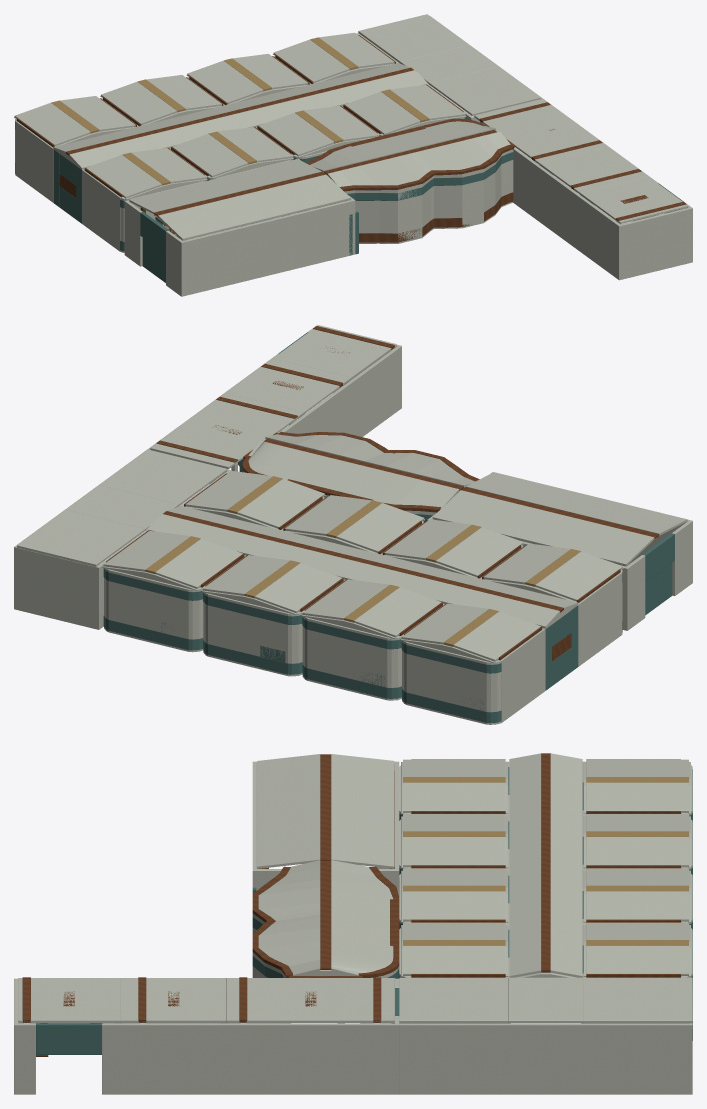
The model's file is D05_medical_connected_architecture_010.glb.
The picture shows the model from 3 angles, top to bottom: view 1: azimuth 30°, elevation 25°; view 2: azimuth 150°, elevation 25°; view 3: azimuth 270°, elevation 25°; orthographic projection. The views are drawn at different scales.
Parts seen in each view (by area): view 1: SUPPORT_south_wall, WAIT_south_sculpted_enclosure, ADMISSION_inner_protected_partition, ADMISSION_ceiling_panel_2, ADMISSION_south_end, TRIAGE_admission_ceiling_0, TRIAGE_admission_ceiling_2, ADMISSION_ceiling_panel_1, ADMISSION_ceiling_panel_0, SUPPORT_vault_facet_0, TRIAGE_04_left_wall, TRIAGE_08_right_wall (+44 smaller); view 2: ADMISSION_ceiling_panel_2, TRIAGE_admission_fore_cap, ADMISSION_inner_protected_partition, TRIAGE_03_shaped_care_back, TRIAGE_04_shaped_care_back, TRIAGE_01_shaped_care_back, TRIAGE_02_shaped_care_back, TRIAGE_admission_ceiling_2, TRIAGE_admission_ceiling_0, WAIT_fitted_vault_north_3, ADMISSION_ceiling_panel_1, ADMISSION_ceiling_panel_0 (+52 smaller); view 3: ADMISSION_outer_aft, TRIAGE_admission_outer, ADMISSION_ceiling_panel_2, TRIAGE_admission_ceiling_0, TRIAGE_admission_ceiling_2, ADMISSION_ceiling_panel_1, ADMISSION_ceiling_panel_0, WAIT_fitted_vault_north_3, TRIAGE_admission_ceiling_1, TRIAGE_05_vault_0, TRIAGE_06_vault_0, TRIAGE_08_vault_0 (+54 smaller).
Boxes of the visible parts, x1,y1,x2,y2 form: SUPPORT_south_wall: [180, 199, 352, 296]; WAIT_south_sculpted_enclosure: [344, 149, 513, 243]; ADMISSION_inner_protected_partition: [513, 147, 621, 280]; ADMISSION_ceiling_panel_2: [474, 99, 606, 164]; ADMISSION_south_end: [617, 207, 691, 279]; TRIAGE_admission_ceiling_0: [430, 66, 540, 115]; TRIAGE_admission_ceiling_2: [358, 14, 469, 63]; ADMISSION_ceiling_panel_1: [539, 146, 648, 194]; ADMISSION_ceiling_panel_0: [581, 177, 688, 223]; SUPPORT_vault_facet_0: [173, 189, 350, 240]; TRIAGE_04_left_wall: [15, 121, 53, 202]; TRIAGE_08_right_wall: [82, 169, 120, 251]; ADMISSION_ceiling_panel_2: [150, 393, 303, 469]; TRIAGE_admission_fore_cap: [14, 546, 100, 629]; ADMISSION_inner_protected_partition: [279, 345, 401, 436]; TRIAGE_03_shaped_care_back: [302, 616, 401, 700]; TRIAGE_04_shaped_care_back: [402, 641, 501, 724]; TRIAGE_01_shaped_care_back: [104, 568, 203, 652]; TRIAGE_02_shaped_care_back: [203, 592, 302, 676]; TRIAGE_admission_ceiling_2: [17, 509, 144, 566]; TRIAGE_admission_ceiling_0: [99, 449, 227, 506]; WAIT_fitted_vault_north_3: [263, 448, 401, 500]; ADMISSION_ceiling_panel_1: [226, 358, 351, 413]; ADMISSION_ceiling_panel_0: [273, 325, 396, 379]; ADMISSION_outer_aft: [102, 1023, 399, 1094]; TRIAGE_admission_outer: [399, 1023, 692, 1094]; ADMISSION_ceiling_panel_2: [226, 978, 394, 1022]; TRIAGE_admission_ceiling_0: [399, 977, 508, 1023]; TRIAGE_admission_ceiling_2: [583, 977, 692, 1023]; ADMISSION_ceiling_panel_1: [120, 978, 226, 1022]; ADMISSION_ceiling_panel_0: [18, 978, 120, 1022]; WAIT_fitted_vault_north_3: [331, 891, 393, 959]; TRIAGE_admission_ceiling_1: [508, 977, 583, 1023]; TRIAGE_05_vault_0: [403, 945, 505, 975]; TRIAGE_06_vault_0: [403, 891, 505, 921]; TRIAGE_08_vault_0: [403, 782, 505, 812].
Bounding box in the file's own units: 34 × 4.8 × 37.01.
Materials: 10 (8 with a texture image).
